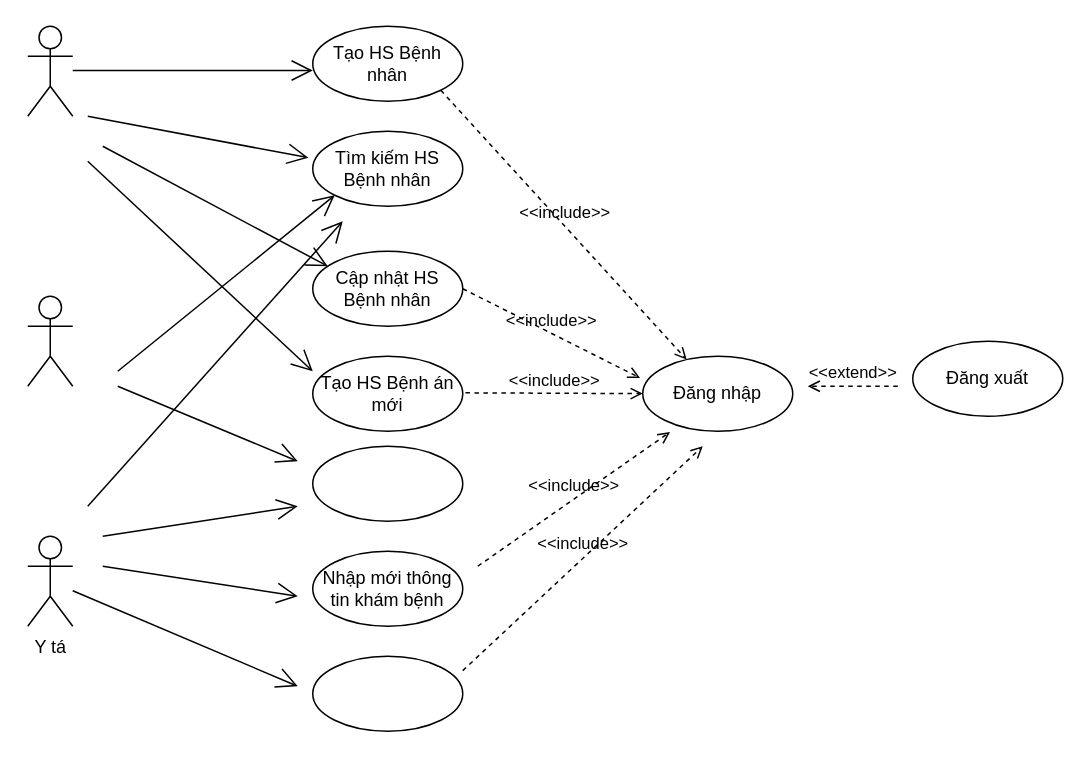
This 1089x758 diagram has some shape labels left out. Each missing label, with the centre of its shape:
Bác sĩ: point 49,340
Cập nhật bổ sung HS Bệnh án: point 387,693
Lễ tân: point 49,70
Tìm kiếm HS Bệnh án: point 387,483
